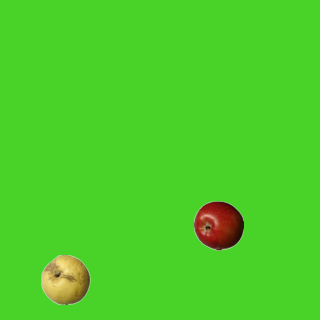Apple Braeburn: (193, 200, 243, 250)
Apple Golden 1: (40, 254, 90, 304)
